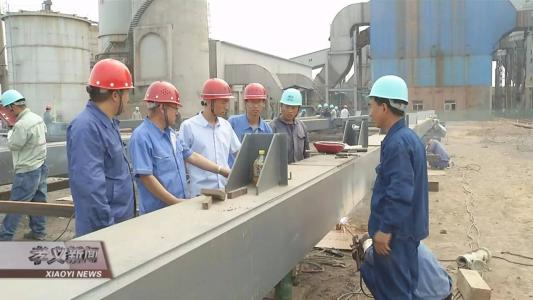boots: (23, 229, 45, 239)
hard-hat: (87, 58, 133, 90), (367, 75, 408, 103), (142, 80, 182, 107), (200, 78, 236, 100), (0, 89, 24, 107), (243, 82, 266, 100), (279, 87, 301, 105)
person: (359, 73, 452, 299), (127, 79, 231, 215), (65, 57, 135, 237), (176, 78, 241, 198), (0, 88, 48, 241), (269, 88, 310, 163), (226, 82, 272, 143)
ppe-suit: (359, 118, 452, 298), (64, 100, 134, 236)
vest: (128, 116, 191, 214)
